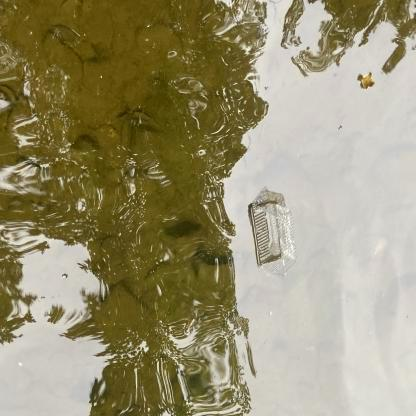Plastic: (246, 189, 301, 286)
